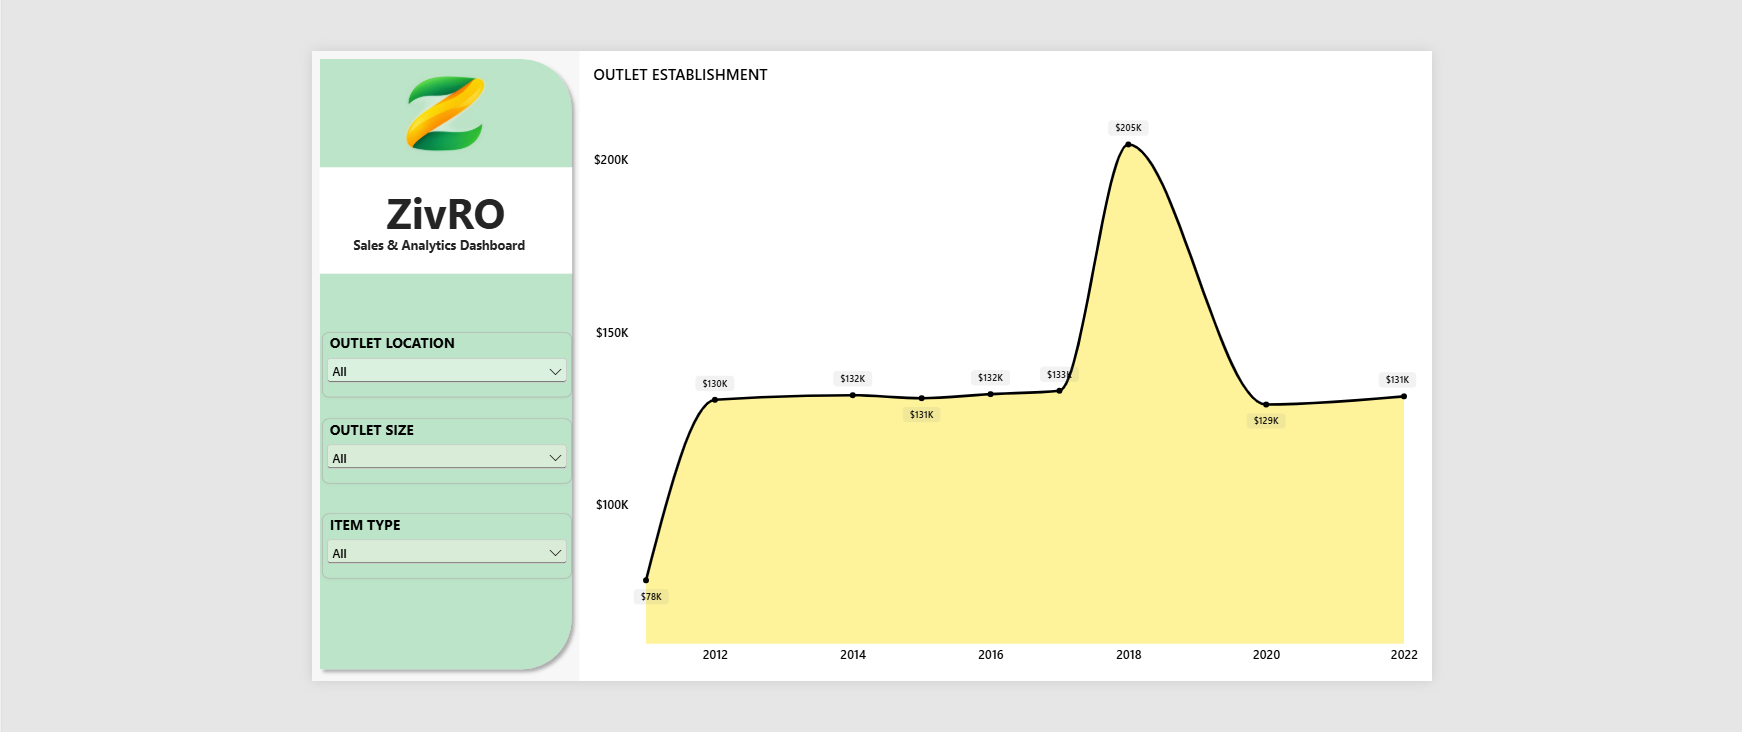

Layout of this report page (visuals, bound fields, positions):
{"tool":"powerbi","page":{"name":"Home","canvas":[1280,720],"ordinal":1},"visuals":[{"type":"shape","box":[0,0,305.7,715.7],"z":0},{"type":"image","box":[67.1,20,168.6,100],"z":1000},{"type":"textbox","box":[8.6,132.9,288.6,121.4],"z":2000},{"type":"textbox","box":[47.1,211.4,305.7,28.6],"z":3000},{"type":"slicer","fields":{"Values":["BlinkIT Grocery Data.Outlet Location Type"]},"box":[11.4,321.4,285.7,74.3],"z":4000},{"type":"slicer","fields":{"Values":["BlinkIT Grocery Data.Outlet Size"]},"box":[11.4,420,285.7,74.3],"z":5000},{"type":"slicer","fields":{"Values":["BlinkIT Grocery Data.Item Type"]},"box":[11.4,528.6,285.7,74.3],"z":6000},{"type":"lineChart","title":"OUTLET ESTABLISHMENT","fields":{"Category":["BlinkIT Grocery Data.Outlet Establishment Year"],"Y":["BlinkIT Grocery Data.Total Sales"]},"box":[305.7,0,974.3,720],"z":7000}]}

Visuals, with their boxes on the page's 1280x720 design canvas (x1, y1, x2, y2). These are canvas units, not pixel positions in the 1742x732 screenshot, which may show the page scaled, cropped or inside an application window:
shape: region(0, 0, 306, 716)
image: region(67, 20, 236, 120)
textbox: region(9, 133, 297, 254)
textbox: region(47, 211, 353, 240)
slicer - BlinkIT Grocery Data.Outlet Location Type: region(11, 321, 297, 396)
slicer - BlinkIT Grocery Data.Outlet Size: region(11, 420, 297, 494)
slicer - BlinkIT Grocery Data.Item Type: region(11, 529, 297, 603)
"OUTLET ESTABLISHMENT" lineChart: region(306, 0, 1280, 720)
